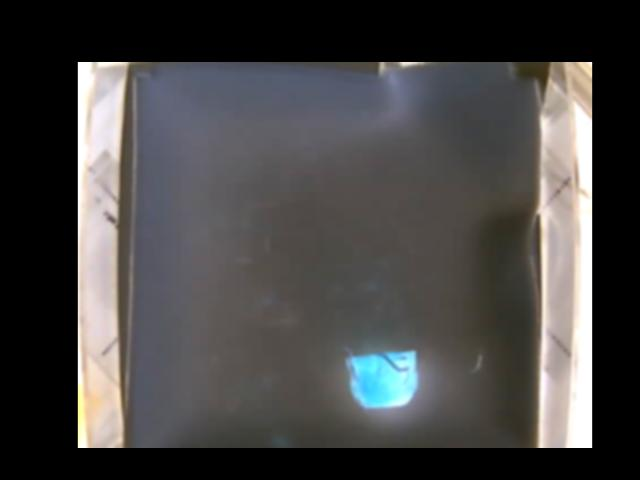Carrot: (344, 349, 416, 411)
